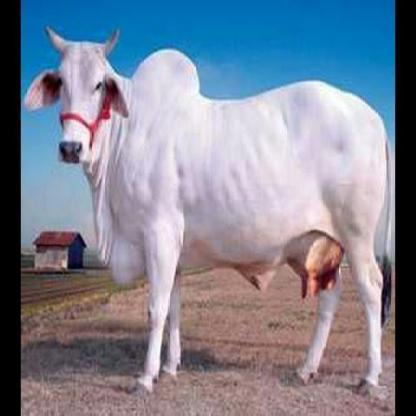cow: (25, 24, 393, 398)
